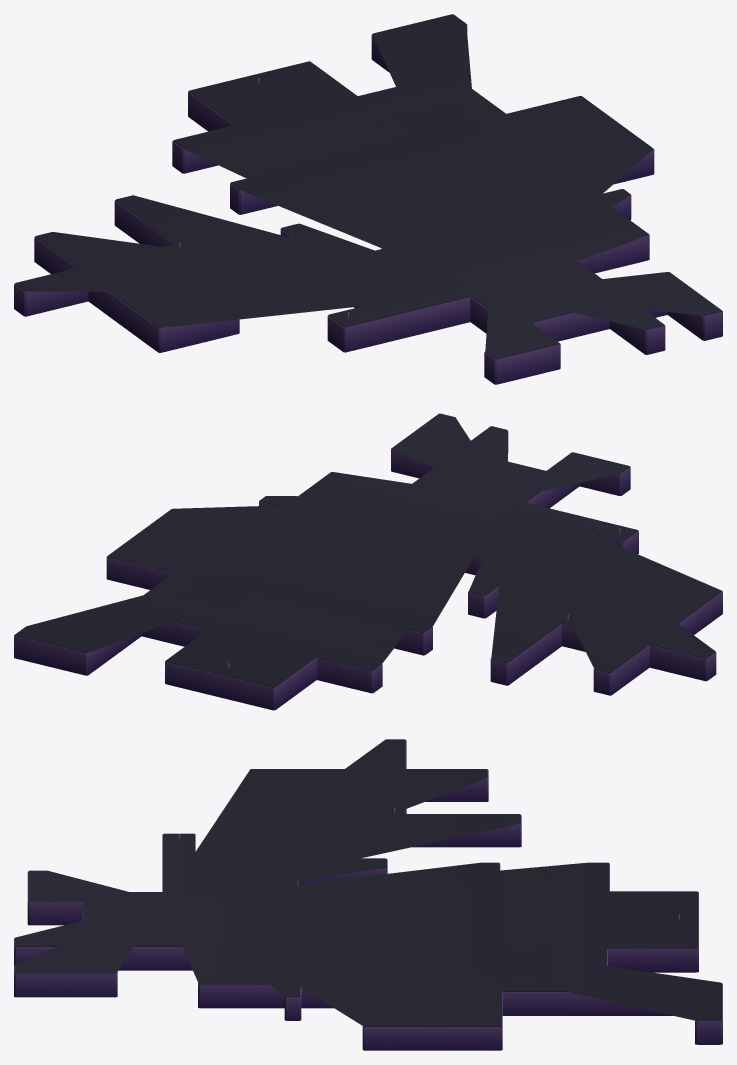
Rendered from gamejamtest.fbx.
3 views of the same model, one above another, from view 1: azimuth 30°, elevation 25°; view 2: azimuth 150°, elevation 25°; view 3: azimuth 270°, elevation 25° (orthographic). The views are drawn at different scales.
Parts seen in each view (by area): view 1: MazeRoof, Maze; view 2: MazeRoof, Maze; view 3: MazeRoof, Maze.
Part boxes in pixels (x1=…): MazeRoof: x1=15, y1=14, x2=721, y2=359; Maze: x1=14, y1=24, x2=722, y2=384; MazeRoof: x1=14, y1=413, x2=722, y2=687; Maze: x1=14, y1=418, x2=722, y2=710; MazeRoof: x1=14, y1=739, x2=721, y2=1026; Maze: x1=14, y1=740, x2=722, y2=1050.
Bounding box in the file's own units: 7909 × 408 × 8243.
10 materials, 10 textured.
